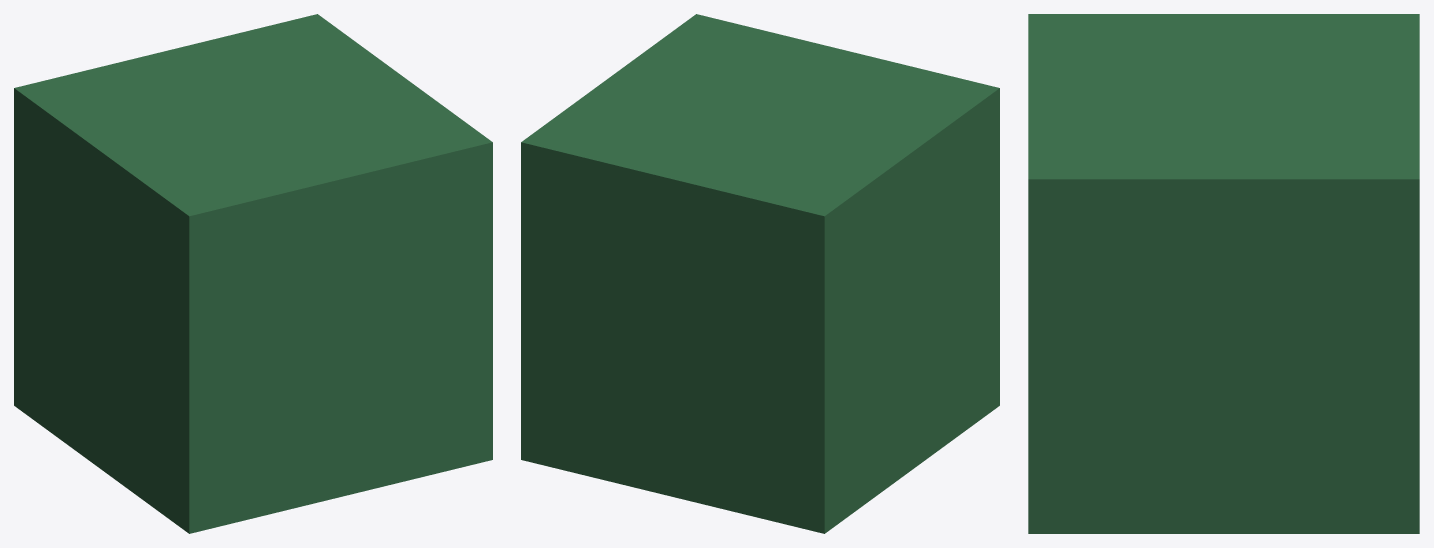
Rendered from Cubefour.fbx.
3 views of the same model, side by side, from view 1: azimuth 30°, elevation 25°; view 2: azimuth 150°, elevation 25°; view 3: azimuth 270°, elevation 25° (orthographic). The views are drawn at different scales.
Parts seen in each view (by area): view 1: Start; view 2: Start; view 3: Start.
Boxes of the visible parts, x1,y1,x2,y2 form: Start: (14, 14, 492, 533); Start: (521, 14, 999, 533); Start: (1028, 14, 1419, 533).
Bounding box in the file's own units: 10 × 10 × 10.
